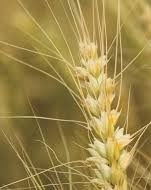Healthy Wheat: (77, 38, 134, 184)
